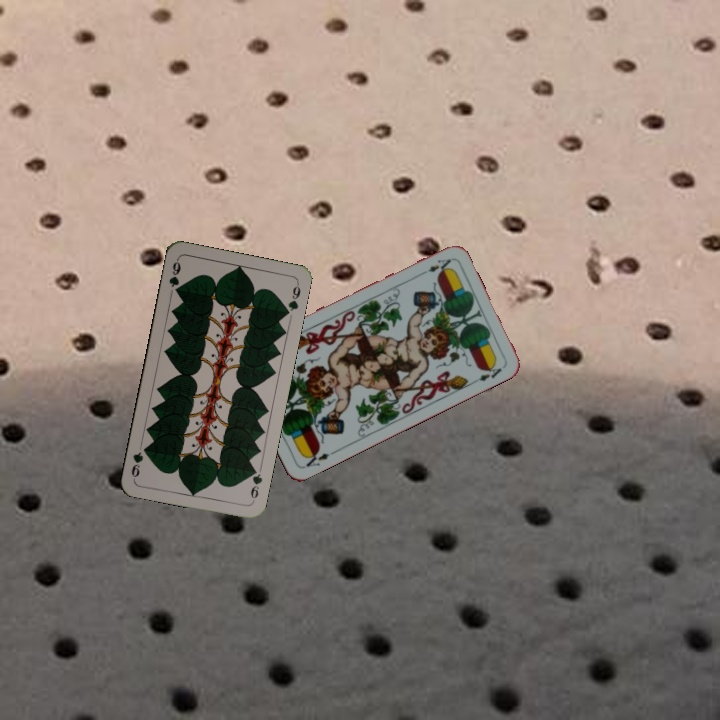EA: (300, 446, 338, 470), (415, 255, 454, 278)
G9: (246, 463, 265, 505), (165, 255, 183, 297)
